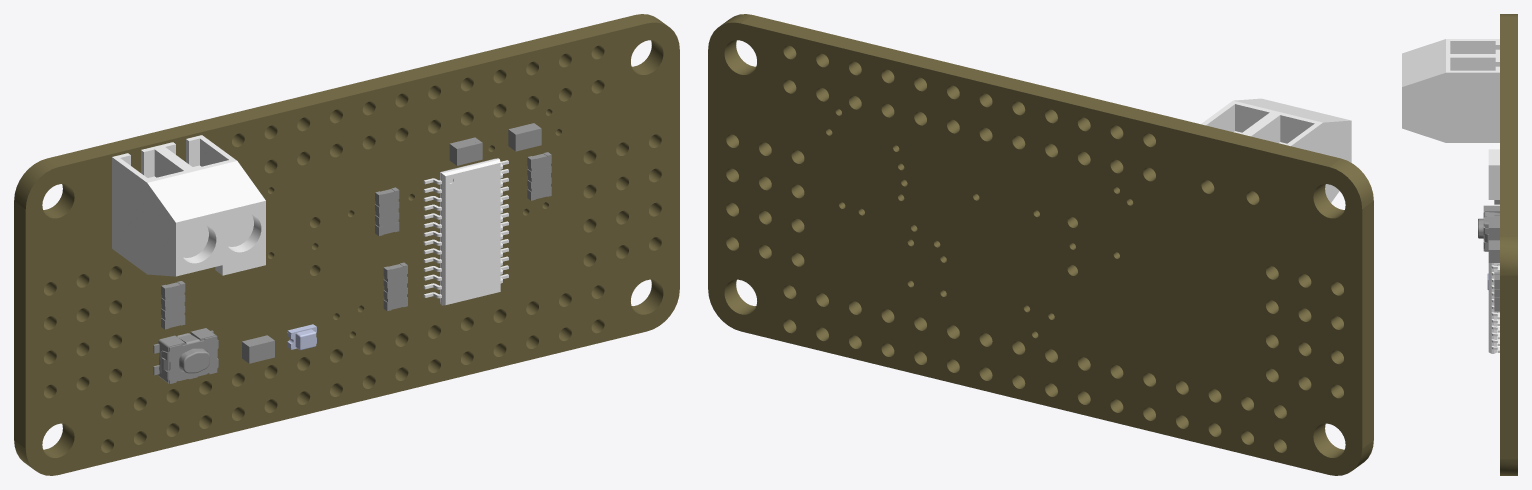
The model's file is 2928 Servo PWM FeatherWing.glb.
3 renders of one model, left to right at view 1: azimuth 30°, elevation 25°; view 2: azimuth 150°, elevation 25°; view 3: azimuth 270°, elevation 25°, orthographic. The views are drawn at different scales.
Visible parts, largest first — view 1: Board, TERMBLOCK_1X2-3.5MM, TSSOP28, RESPACK_4X0603 (×4), BTN_KMR2_4.6X2.8, 0805-NO (×3); view 2: Board, TERMBLOCK_1X2-3.5MM; view 3: TERMBLOCK_1X2-3.5MM, Board, TSSOP28, POWERDI3333, 0805-NO (×2), BTN_KMR2_4.6X2.8, RESPACK_4X0603.
Part boxes in pixels (<box>): Board: <box>14,14,679,475</box>; TERMBLOCK_1X2-3.5MM: <box>112,135,265,276</box>; TSSOP28: <box>423,158,508,305</box>; RESPACK_4X0603 (×4): <box>161,152,551,329</box>; BTN_KMR2_4.6X2.8: <box>153,328,218,383</box>; 0805-NO (×3): <box>242,123,541,363</box>; Board: <box>708,14,1373,475</box>; TERMBLOCK_1X2-3.5MM: <box>1201,98,1351,202</box>; TERMBLOCK_1X2-3.5MM: <box>1402,39,1499,142</box>; Board: <box>1500,14,1517,475</box>; TSSOP28: <box>1488,263,1499,353</box>; POWERDI3333: <box>1488,149,1499,199</box>; 0805-NO (×2): <box>1488,218,1499,262</box>; BTN_KMR2_4.6X2.8: <box>1478,205,1499,251</box>; RESPACK_4X0603: <box>1494,272,1499,311</box>.
Bounding box in the file's own units: 50.8 × 22.86 × 10.17.
